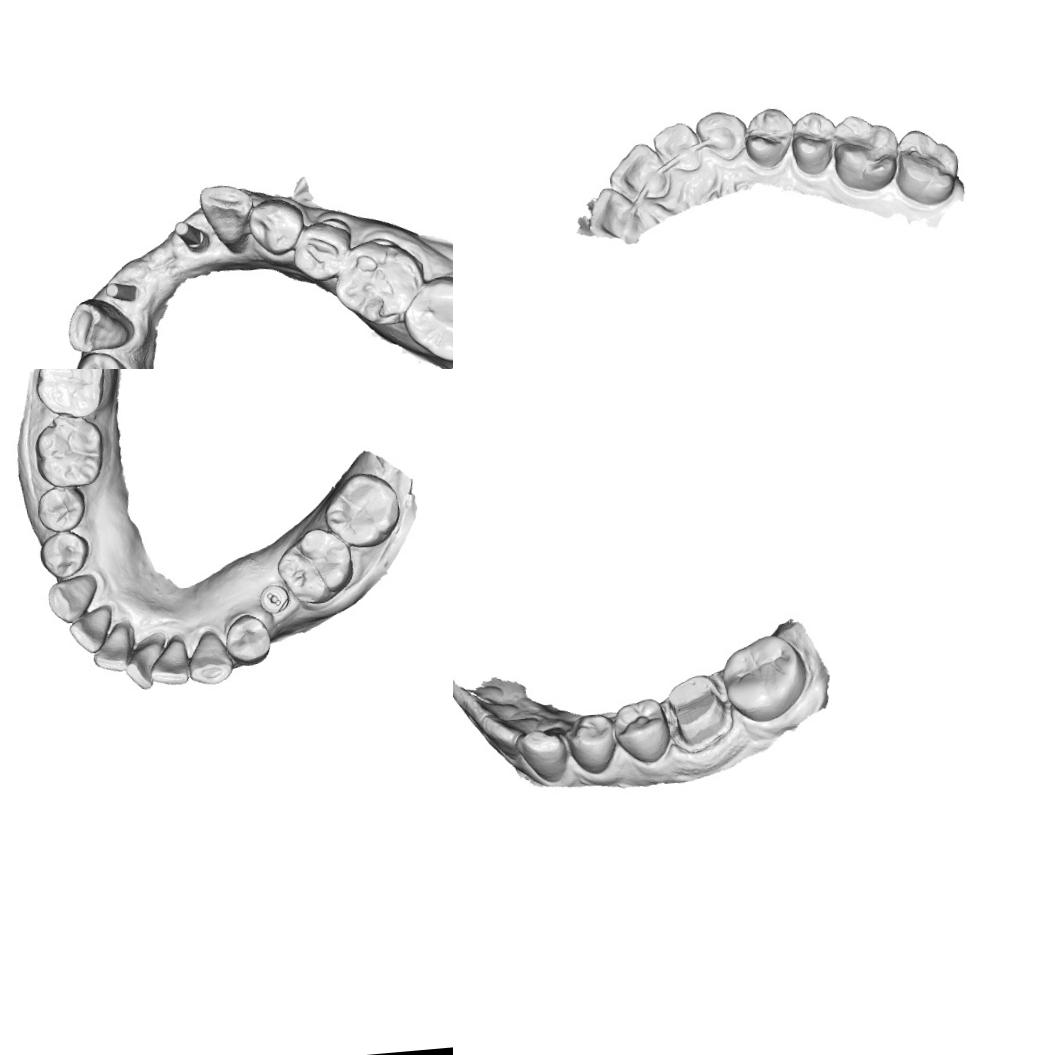abutment: (173, 216, 207, 259), (101, 277, 141, 305)
canine: (62, 295, 132, 355), (198, 180, 256, 249), (513, 724, 570, 786), (692, 106, 750, 164), (184, 627, 236, 687), (44, 572, 100, 626)
crown: (661, 670, 732, 752)
implant_minus: (257, 582, 290, 614)
incisor: (606, 139, 674, 203), (585, 183, 642, 246), (650, 118, 703, 176), (480, 712, 545, 752), (66, 604, 114, 654), (460, 686, 520, 726), (89, 623, 133, 674), (146, 636, 190, 687), (122, 640, 165, 691)
molar: (329, 234, 428, 332), (716, 628, 812, 727), (272, 524, 356, 607), (320, 468, 403, 550), (890, 124, 962, 208), (829, 110, 901, 194), (31, 412, 106, 490), (397, 269, 453, 369), (31, 369, 108, 421)
premolar: (609, 694, 674, 767), (289, 216, 356, 284), (561, 708, 620, 778), (246, 194, 306, 258), (787, 109, 840, 176), (742, 105, 796, 170), (36, 528, 92, 580), (222, 610, 272, 668), (35, 483, 86, 532), (70, 347, 133, 369)
